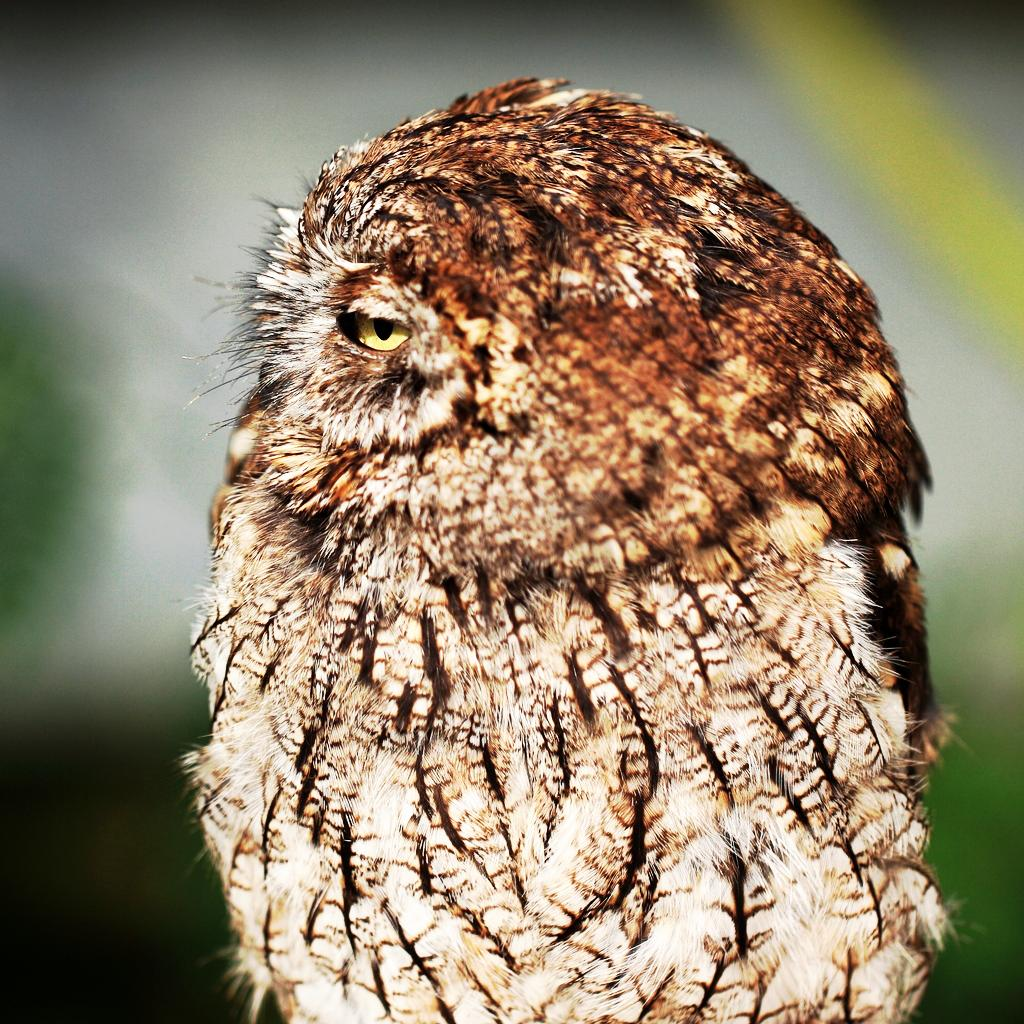Owl: (176, 75, 956, 1023)
